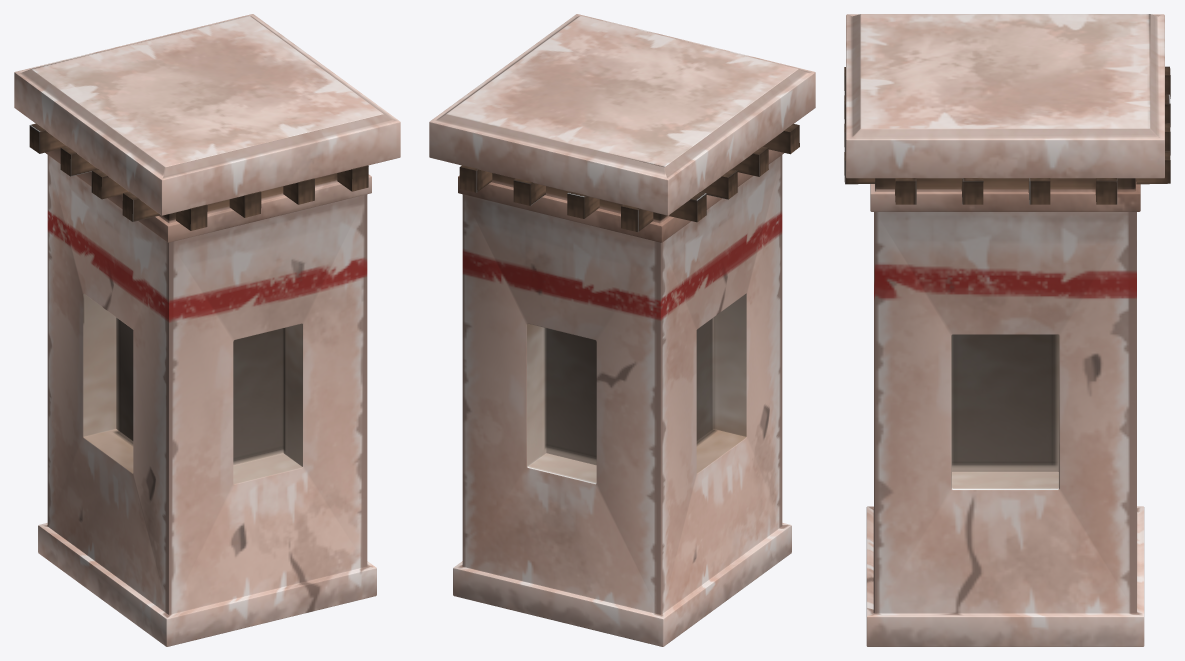
File: Z1_Tower_Low.FBX
3 views of the same model, side by side, from view 1: azimuth 30°, elevation 25°; view 2: azimuth 150°, elevation 25°; view 3: azimuth 270°, elevation 25° (orthographic). The views are drawn at different scales.
Visible parts, largest first — view 1: Z1_Tower_Low; view 2: Z1_Tower_Low; view 3: Z1_Tower_Low.
Part boxes in pixels (<box>): Z1_Tower_Low: <box>14,14,400,646</box>; Z1_Tower_Low: <box>429,14,815,646</box>; Z1_Tower_Low: <box>844,14,1170,646</box>.
Size of the model in its own units: 321 by 587 by 334.
